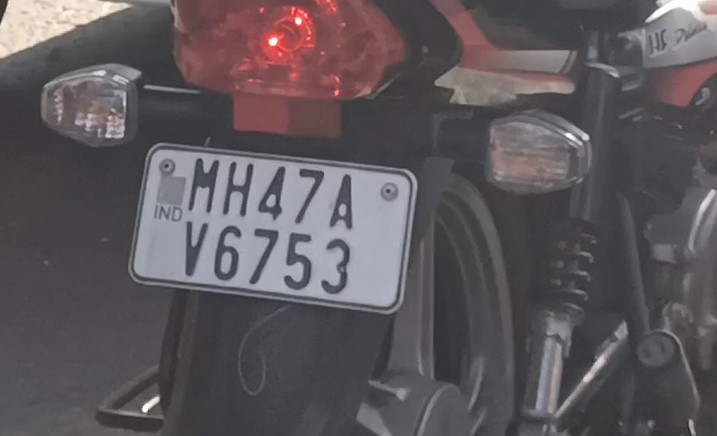MH47AV6753: (133, 147, 412, 309)
